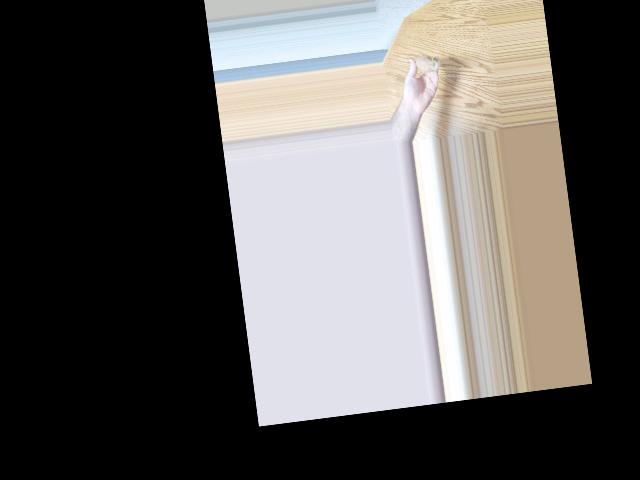sweet_potato: (411, 46, 439, 73)
